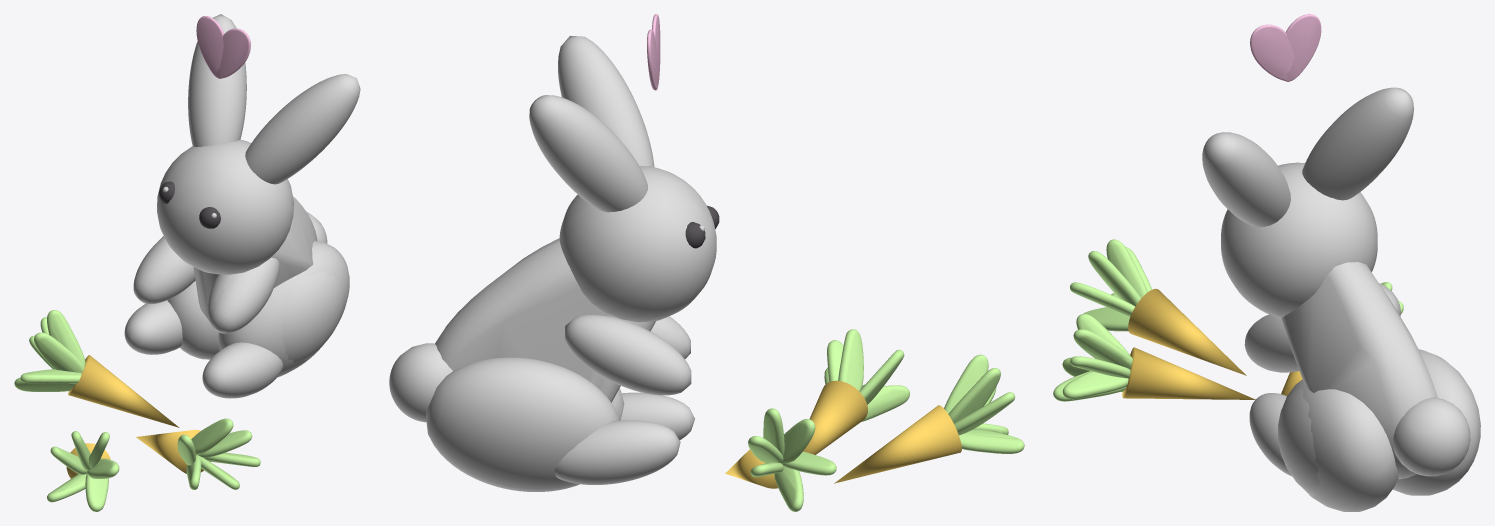
The model's file is whiterabbit.glb.
3 renders of one model, left to right at view 1: azimuth 30°, elevation 25°; view 2: azimuth 150°, elevation 25°; view 3: azimuth 270°, elevation 25°, orthographic. The views are drawn at different scales.
Parts seen in each view (by area): view 1: whiterabbit.001; view 2: whiterabbit.001; view 3: whiterabbit.001.
Boxes of the visible parts, <box> form: whiterabbit.001: <box>14,14,360,511</box>; whiterabbit.001: <box>389,14,1024,511</box>; whiterabbit.001: <box>1053,14,1480,511</box>.
Size of the model in its own units: 114 by 103 by 89.69.
